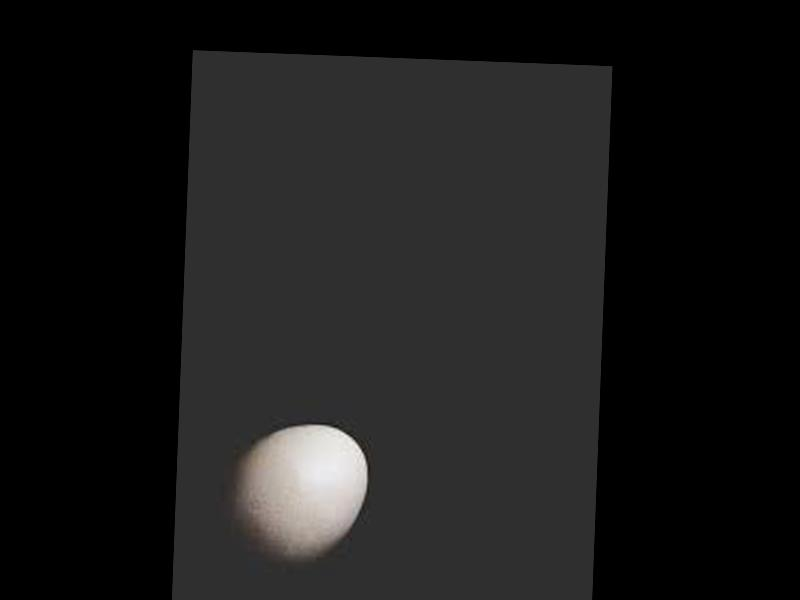Eggs: (227, 422, 370, 569)
